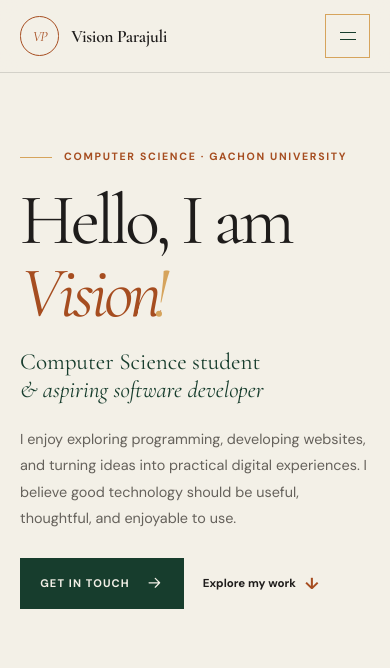
Test case: mobile navigation opens and closes after choosing a section
This screenshot has width=390, height=668.
Click the button named "open navigation menu". click: (348, 36)
box: [325,14,370,58]
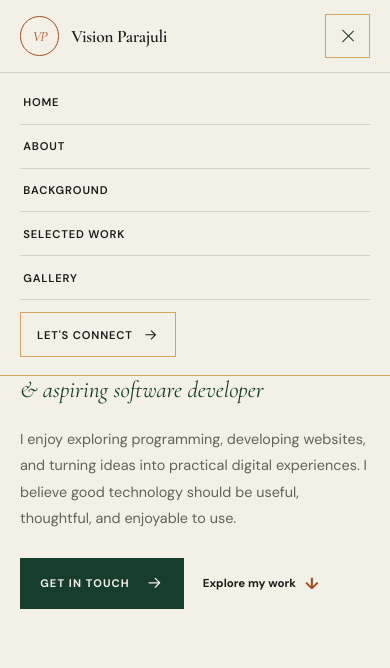
Check: the button named "open navigation menu" is expanded, box [325,14,370,58]
Click the link "Background". click: (66, 190)
box: [20,169,370,212]
(page scrolled)
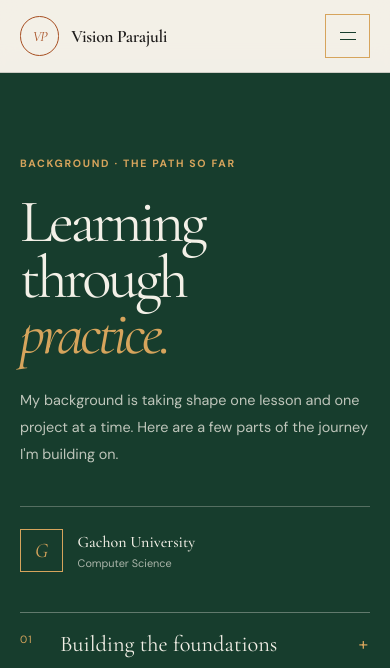
Check: the button named "open navigation menu" is collapsed, box [325,14,370,58]
